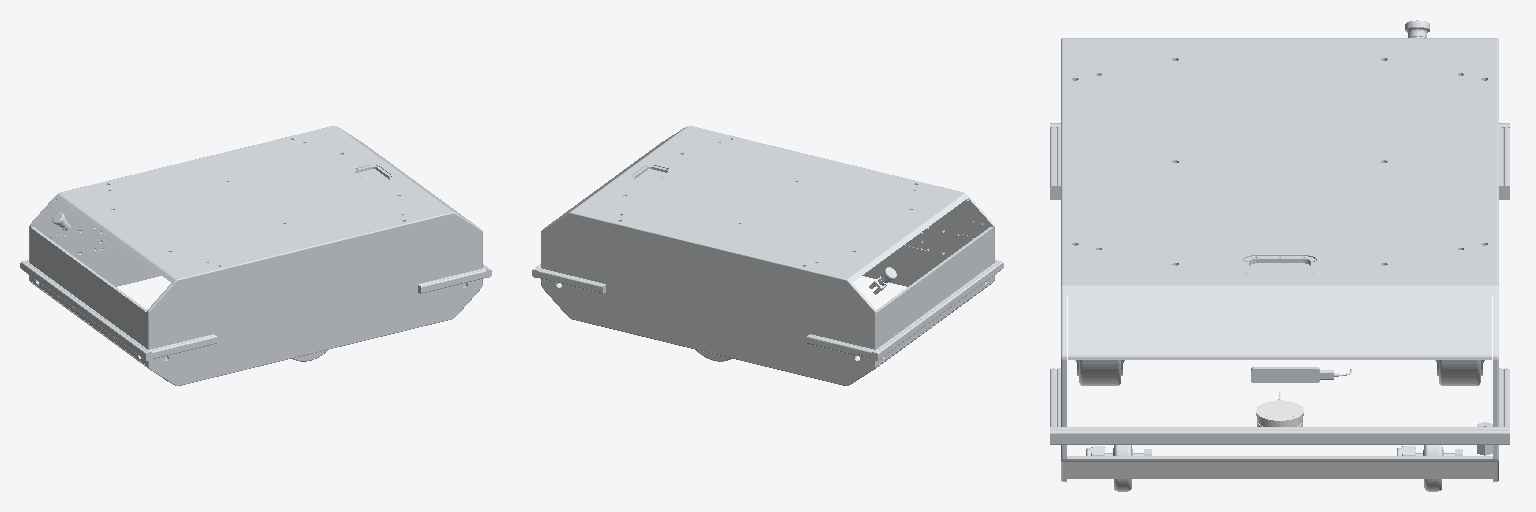
robot.urdf — smartcar:
<?xml version="1.0" encoding="utf-8"?>
<robot name="smartcar">

  <link
    name="base_link">
    <inertial>
      <origin
        xyz="-0.00198084643982857 0.00015826773785399 0.078851316826229"
        rpy="0 0 0" />
      <mass
        value="46.9711436651479" />
      <inertia
        ixx="1.18547340787561"
        ixy="0.000131453718622928"
        ixz="4.85190687839816E-05"
        iyy="2.91447990414594"
        iyz="3.8288691180146E-05"
        izz="3.73301637110915" />
    </inertial>
    <visual>
      <origin
        xyz="0 0 0"
        rpy="0 0 0" />
      <geometry>
        <mesh
          filename="package://smartcar/meshes/base_link.STL" />
      </geometry>
      <material
        name="">
        <color
          rgba="0.898039215686275 0.917647058823529 0.929411764705882 1" />
      </material>
    </visual>
    <collision>
      <origin
        xyz="0 0 0"
        rpy="0 0 0" />
      <geometry>
        <mesh
          filename="package://smartcar/meshes/base_link.STL" />
      </geometry>
    </collision>
  </link>


  <link
    name="wheel1_Link">
    <inertial>
      <origin
        xyz="-1.38777878078145E-17 -0.0462274626386197 -4.5102810375397E-17"
        rpy="0 0 0" />
      <mass
        value="6.82235295606778" />
      <inertia
        ixx="0.0195119477019701"
        ixy="6.24990513525111E-19"
        ixz="1.51278885993462E-18"
        iyy="0.0312527402731754"
        iyz="1.0680647887762E-17"
        izz="0.0195132559794298" />
    </inertial>
    <visual>
      <origin
        xyz="0 0 0"
        rpy="0 0 0" />
      <geometry>
        <mesh
          filename="package://smartcar/meshes/wheel1_Link.STL" />
      </geometry>
      <material
        name="">
        <color
          rgba="0.898039215686275 0.917647058823529 0.929411764705882 1" />
      </material>
    </visual>
    <collision>
      <origin
        xyz="0 0 0"
        rpy="0 0 0" />
      <geometry>
        <mesh
          filename="package://smartcar/meshes/wheel1_Link.STL" />
      </geometry>
    </collision>
  </link>

  <joint
    name="wheel1_joint"
    type="revolute">
    <origin
      xyz="0 0.328 -0.0905"
      rpy="0 0 0" />
    <parent
      link="base_link" />
    <child
      link="wheel1_Link" />
    <axis
      xyz="0 -1 0" />
    <limit
      lower="-180"
      upper="180"
      effort="0"
      velocity="0" />
  </joint>


  <link
    name="wheel2_Link">
    <inertial>
      <origin
        xyz="0 0.0462274626386194 4.16333634234434E-17"
        rpy="0 0 0" />
      <mass
        value="6.82235295606777" />
      <inertia
        ixx="0.0195119477019701"
        ixy="3.44675556625482E-19"
        ixz="-5.37035749066533E-19"
        iyy="0.0312527402731754"
        iyz="9.94686708248665E-18"
        izz="0.0195132559794298" />
    </inertial>
    <visual>
      <origin
        xyz="0 0 0"
        rpy="0 0 0" />
      <geometry>
        <mesh
          filename="package://smartcar/meshes/wheel2_Link.STL" />
      </geometry>
      <material
        name="">
        <color
          rgba="0.898039215686275 0.917647058823529 0.929411764705882 1" />
      </material>
    </visual>
    <collision>
      <origin
        xyz="0 0 0"
        rpy="0 0 0" />
      <geometry>
        <mesh
          filename="package://smartcar/meshes/wheel2_Link.STL" />
      </geometry>
    </collision>
  </link>

  <joint
    name="wheel2_joint"
    type="revolute">
    <origin
      xyz="0 -0.328 -0.0905"
      rpy="0 0 0" />
    <parent
      link="base_link" />
    <child
      link="wheel2_Link" />
    <axis
      xyz="0 1 0" />
    <limit
      lower="-180"
      upper="180"
      effort="0"
      velocity="0" />
  </joint>


  <link
    name="sensor_Link">
    <inertial>
      <origin
        xyz="-0.000311067834290135 -4.89587259622226E-10 -0.0195148289778006"
        rpy="0 0 0" />
      <mass
        value="0.165781066551279" />
      <inertia
        ixx="7.6221382324382E-05"
        ixy="-2.54226544916948E-12"
        ixz="7.39630811381632E-07"
        iyy="7.88365405900698E-05"
        iyz="8.44395884999134E-13"
        izz="0.000110620480854254" />
    </inertial>
    <visual>
      <origin
        xyz="0 0 0"
        rpy="0 0 0" />
      <geometry>
        <mesh
          filename="package://smartcar/meshes/sensor_Link.STL" />
      </geometry>
      <material
        name="">
        <color
          rgba="1 1 1 1" />
      </material>
    </visual>
    <collision>
      <origin
        xyz="0 0 0"
        rpy="0 0 0" />
      <geometry>
        <mesh
          filename="package://smartcar/meshes/sensor_Link.STL" />
      </geometry>
    </collision>
  </link>

  <joint
    name="sensor_joint"
    type="fixed">
    <origin
      xyz="0.4965 0 -0.0125"
      rpy="0 0 0" />
    <parent
      link="base_link" />
    <child
      link="sensor_Link" />
    <axis
      xyz="0 0 0" />
  </joint>
</robot>

--- Render facts (derived) ---
3 views of the same robot in one strip: view 1: azimuth 30°, elevation 25°; view 2: azimuth 150°, elevation 25°; view 3: azimuth 270°, elevation 25° (orthographic).
Model smartcar with 4 links and 3 joints (2 revolute, 1 fixed), rooted at base_link, posed every joint at zero.
Links seen in each view (by area): view 1: base_link; view 2: base_link; view 3: base_link, sensor_Link, wheel1_Link, wheel2_Link.
Boxes of the visible links, x1,y1,x2,y2 form: base_link: [20, 126, 491, 385]; base_link: [532, 126, 1003, 385]; base_link: [1050, 20, 1509, 491]; sensor_Link: [1256, 392, 1303, 426]; wheel1_Link: [1435, 360, 1484, 385]; wheel2_Link: [1075, 360, 1124, 385].
Bounding box of the posed robot: 1.15 × 0.724 × 0.3793 m (x, y, z).
4 mesh visuals loaded from 4 distinct referenced files (4 binary STL).
